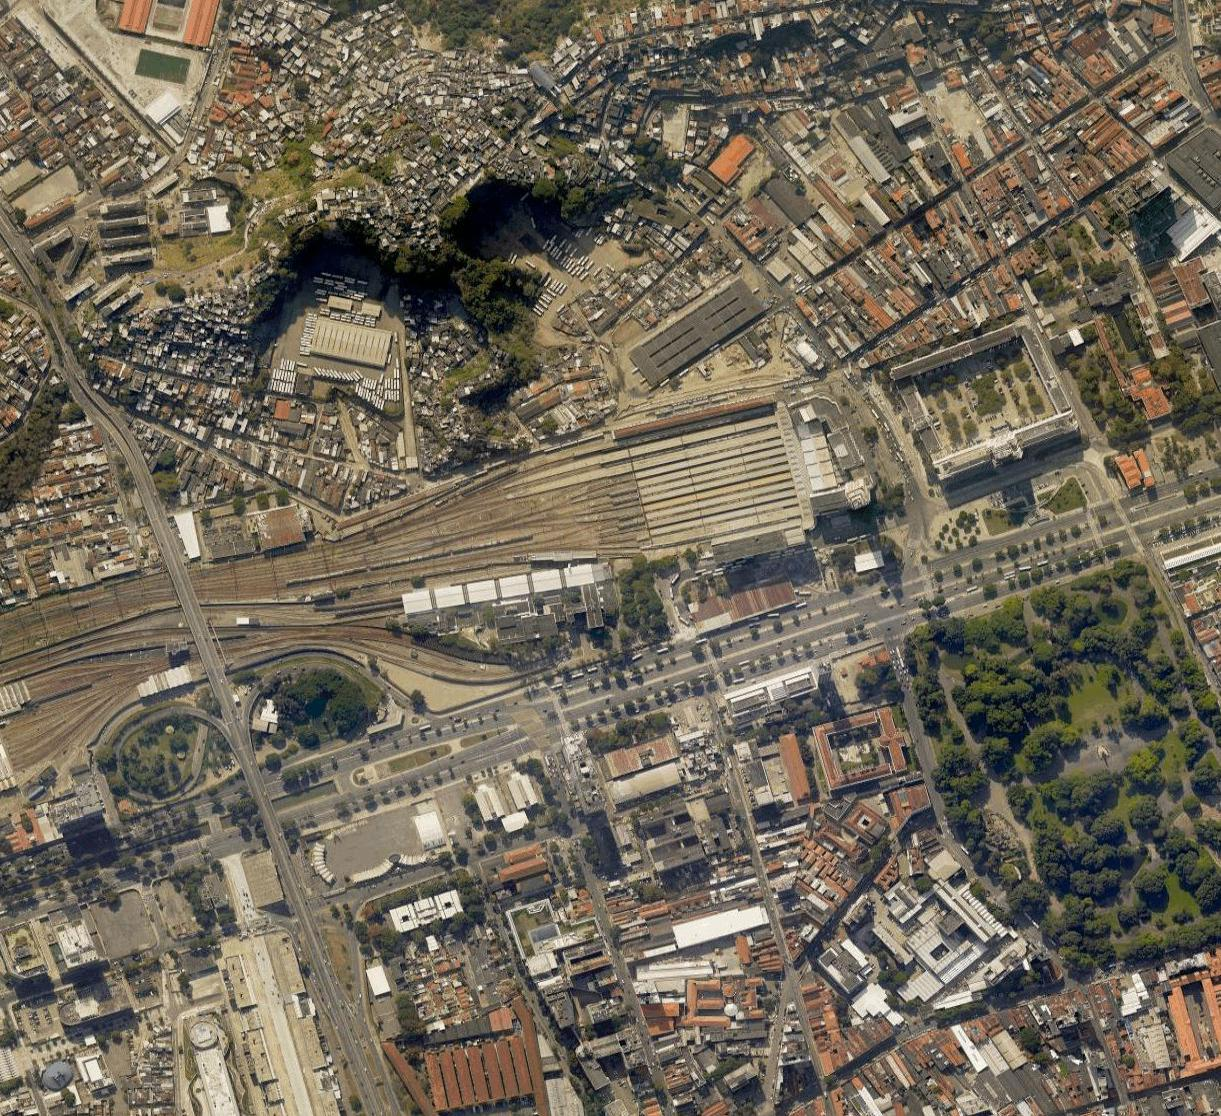bridge: (160, 567, 225, 674)
train_station: (565, 407, 855, 560)
